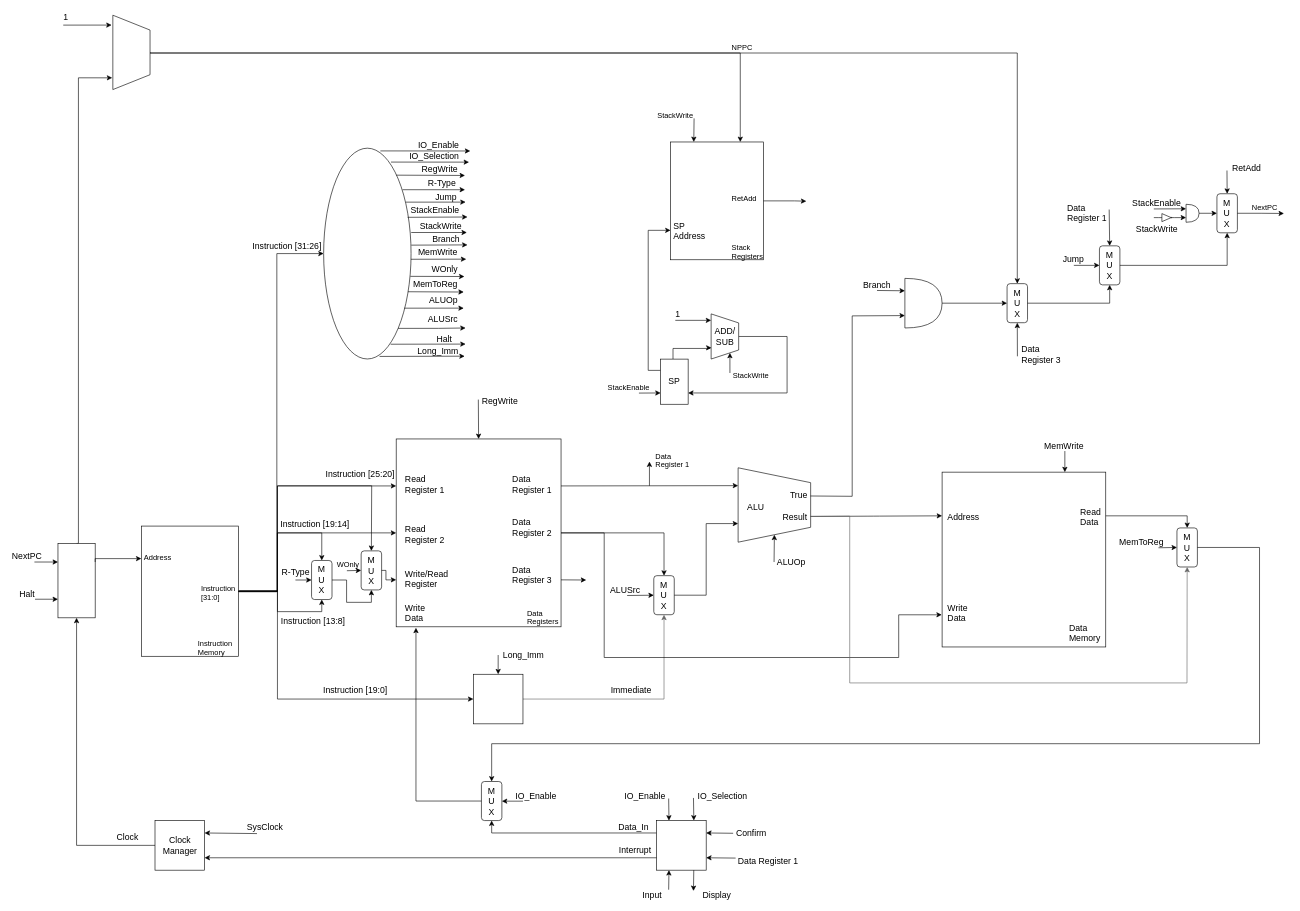
Some shapes in this 1300 by 911 pixel diagram are drawn without their labels. Each missing label, with the centre of its shape:
"ADD" belongs at pixel 131 52.
"Control" belongs at pixel 367 253.
"Extend" belongs at pixel 498 699.
"I/O Module" belongs at pixel 681 845.
"PC" belongs at pixel 76 580.
